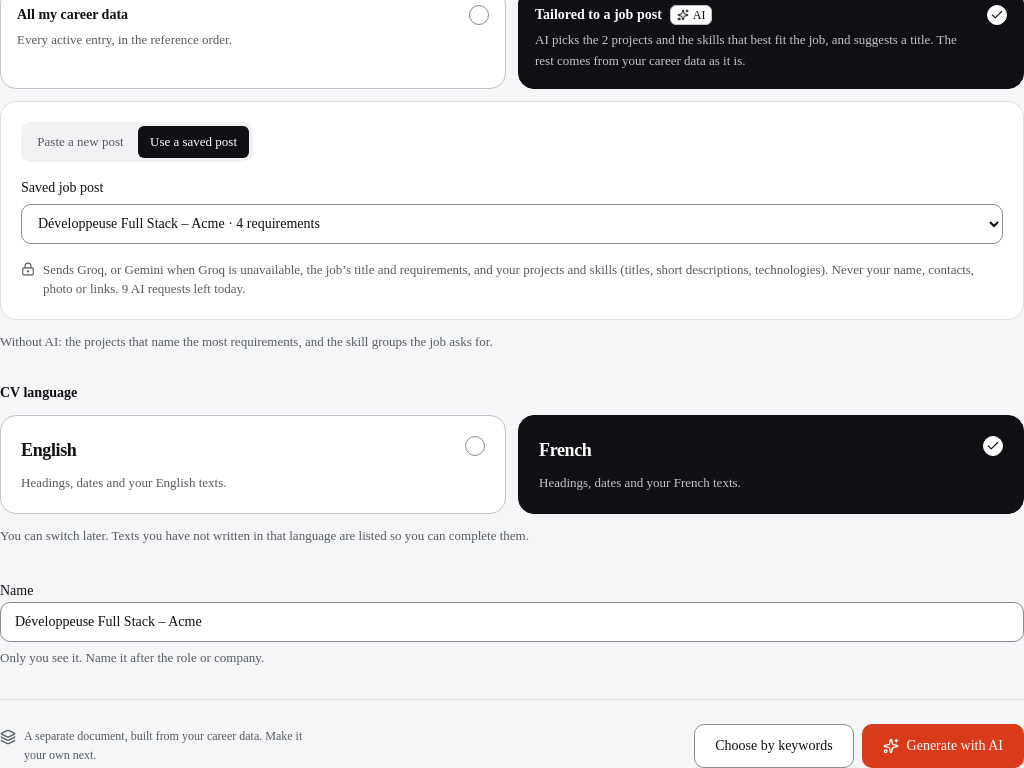
Scenario: new CV form, tailored to a job post › explains why tailoring stopped: {"ok":false,"error":"ai_rate_limited","provider":"groq"}
The width and height of the screenshot is (1024, 768).
(page scrolled)
Step 1. Click the button "Generate with AI" → (943, 746), box top-left (862, 724), bottom-right (1023, 767)
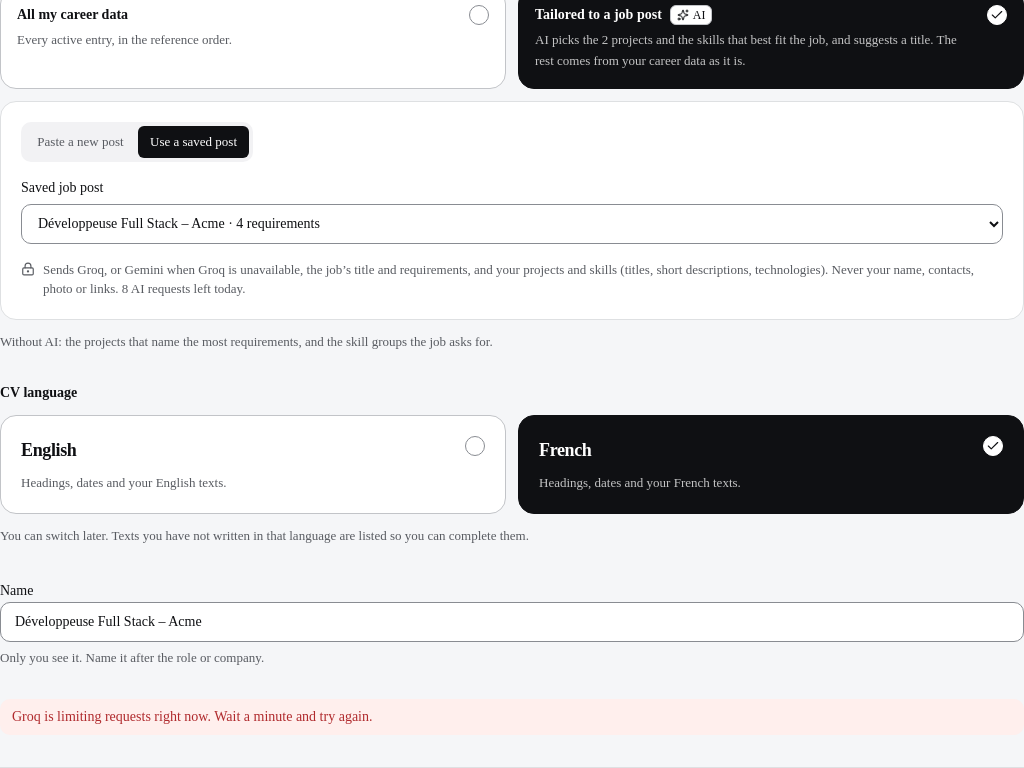
Check: the message reads "Groq is limiting requests right now. Wait a minute and try again.", box top-left (12, 709), bottom-right (372, 724)
